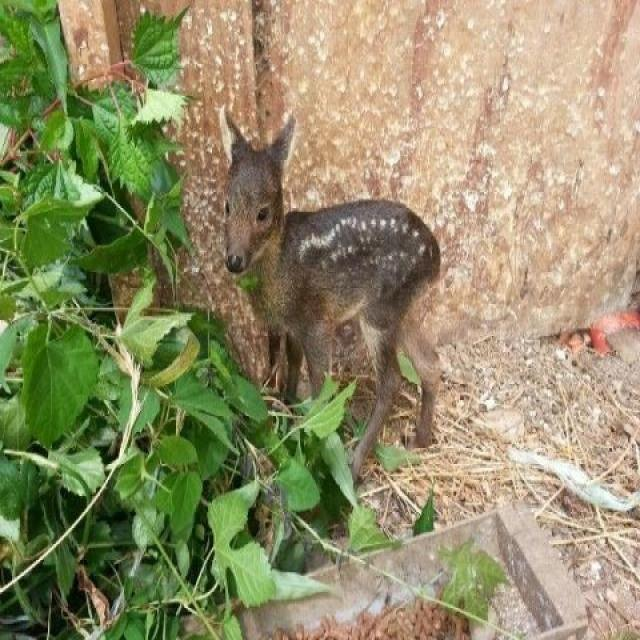deer: (200, 89, 458, 495)
